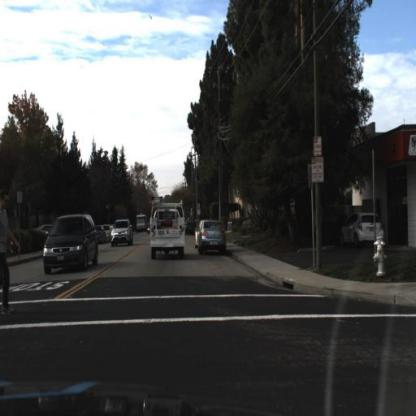car: (144, 196, 189, 271), (44, 216, 97, 273), (338, 211, 385, 244), (196, 218, 226, 255), (110, 220, 132, 249), (95, 224, 107, 249), (146, 220, 156, 238)
pedestrian: (1, 187, 21, 320)
truck: (149, 195, 187, 260)
